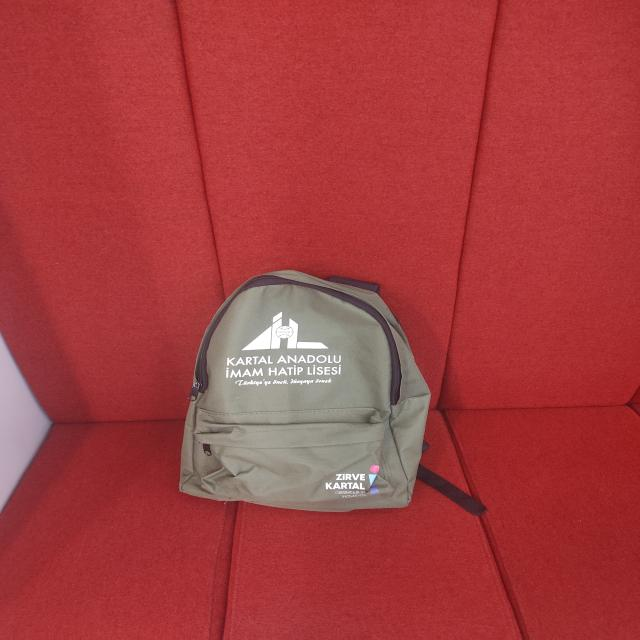bag: (182, 263, 431, 516)
